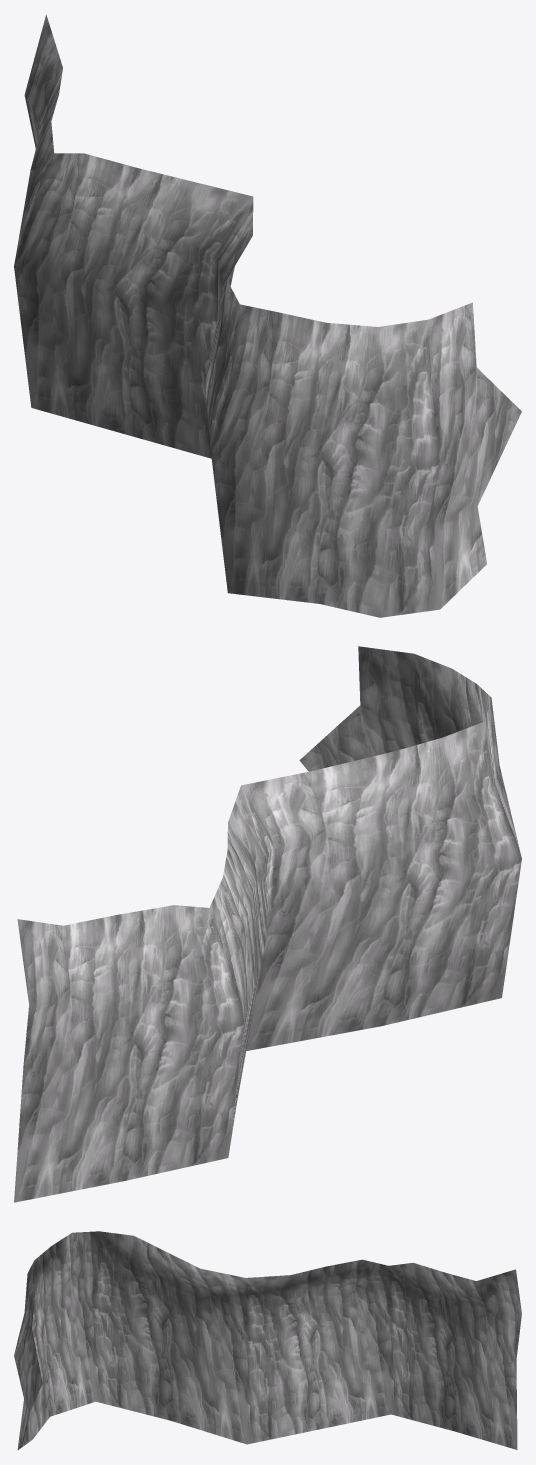
Rendered from SWORDLIGHT20_PS-AREA03_158.fbx.
The picture shows the model from 3 angles, top to bottom: view 1: azimuth 30°, elevation 25°; view 2: azimuth 150°, elevation 25°; view 3: azimuth 270°, elevation 25°; orthographic projection. The views are drawn at different scales.
Parts seen in each view (by area): view 1: SWORDLIGHT20_PS-AREA03_158; view 2: SWORDLIGHT20_PS-AREA03_158; view 3: SWORDLIGHT20_PS-AREA03_158.
Boxes of the visible parts, box(x1,y1,x2,y2) form: SWORDLIGHT20_PS-AREA03_158: box(14, 14, 521, 617); SWORDLIGHT20_PS-AREA03_158: box(14, 646, 521, 1202); SWORDLIGHT20_PS-AREA03_158: box(14, 1231, 521, 1449).
Bounding box in the file's own units: 50950 × 54736 × 134330.
Materials: 1 (1 with a texture image).
